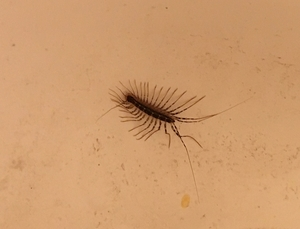centipede: (100, 76, 225, 156)
